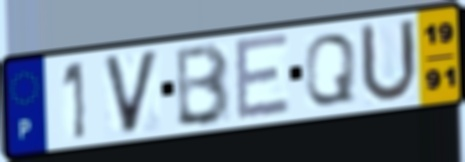1: (60, 59, 89, 142)
B: (174, 40, 234, 129)
E: (232, 31, 293, 125)
Q: (302, 31, 359, 108)
U: (357, 16, 421, 107)
V: (100, 46, 162, 138)
